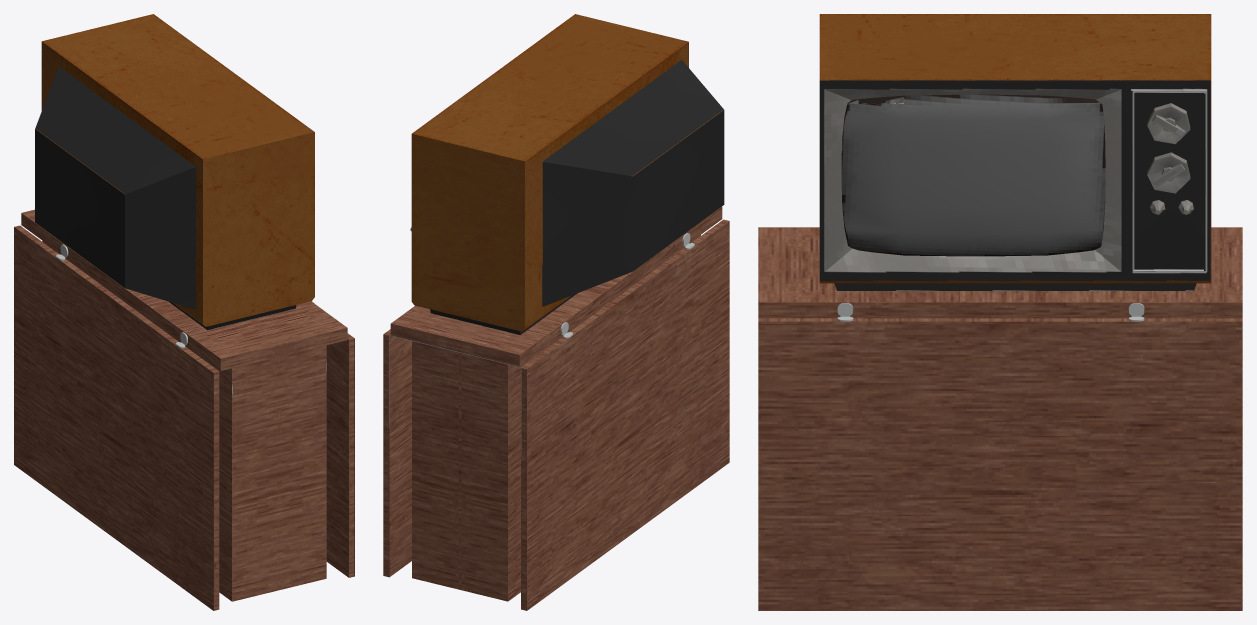
3 views of the same model, side by side, from view 1: azimuth 30°, elevation 25°; view 2: azimuth 150°, elevation 25°; view 3: azimuth 270°, elevation 25° (orthographic). The views are drawn at different scales.
Visible parts, largest first — view 1: Table_low.016, Tv; view 2: Table_low.016, Tv; view 3: Table_low.016, Tv.
Part boxes in pixels (x1,y1,x2,y2): Table_low.016: [14, 209, 354, 610]; Tv: [35, 14, 314, 330]; Table_low.016: [383, 206, 729, 610]; Tv: [410, 14, 724, 334]; Table_low.016: [758, 227, 1242, 610]; Tv: [819, 14, 1211, 290].
Size of the model in its own units: 51.48 by 115 by 97.11.
1 material, 1 textured.
